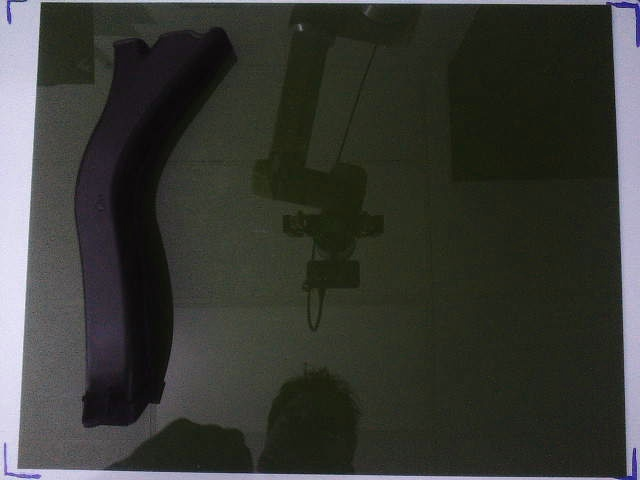887_B-Top: (74, 27, 230, 429)
